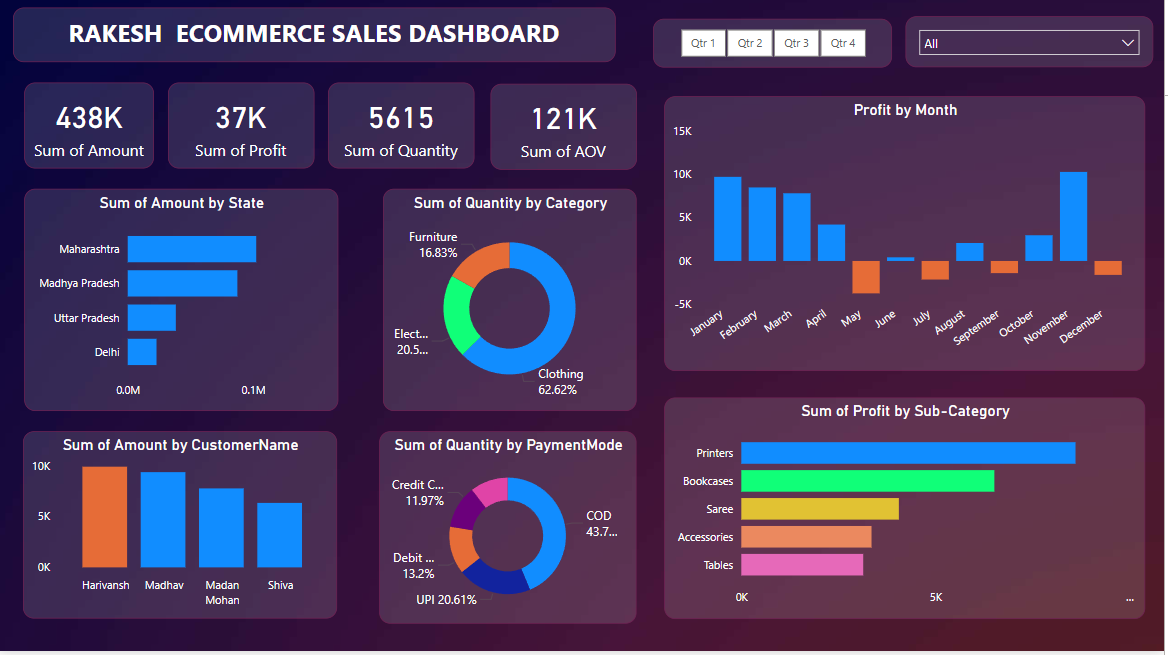

This screenshot's page, from the dashboard's own definition file:
{"tool":"powerbi","page":{"name":"Page 1","canvas":[1280,720],"ordinal":0},"visuals":[{"type":"textbox","box":[16.5,13.7,661.4,60.4],"z":0},{"type":"columnChart","title":"Profit by Month","fields":{"Category":["Orders.Order Date.Variation.Date Hierarchy.Month"],"Y":["Sum(Details.Profit)"]},"box":[731.4,111.1,528.3,301.9],"z":1000},{"type":"barChart","fields":{"Category":["Details.Sub-Category"],"Y":["Sum(Details.Profit)"]},"box":[731.4,441.9,528.3,242.9],"z":2000},{"type":"donutChart","fields":{"Category":["Details.Category"],"Y":["Sum(Details.Quantity)"]},"box":[422.6,212.7,278.6,244.3],"z":3000},{"type":"donutChart","fields":{"Category":["Details.PaymentMode"],"Y":["Sum(Details.Quantity)"]},"box":[418.5,478.9,282.7,211.3],"z":4000},{"type":"card","fields":{"Values":["Sum(Details.Amount)"]},"box":[28.8,96.1,142.7,94.7],"z":5000},{"type":"card","fields":{"Values":["Sum(Details.Profit)"]},"box":[186.6,96.1,160.5,94.7],"z":6000},{"type":"card","fields":{"Values":["Sum(Details.AOV)"]},"box":[540.7,97.4,160.5,94.7],"z":7000},{"type":"card","fields":{"Values":["Sum(Details.Quantity)"]},"box":[362.3,96.1,160.5,94.7],"z":8000},{"type":"barChart","fields":{"Category":["Orders.State"],"Y":["Sum(Details.Amount)"]},"box":[28.8,212.7,344.4,244.3],"z":9000},{"type":"columnChart","fields":{"Category":["Orders.CustomerName"],"Y":["Sum(Details.Amount)"]},"box":[27.4,478.9,344.4,205.8],"z":10000},{"type":"slicer","fields":{"Values":["Orders.Order Date.Variation.Date Hierarchy.Quarter"]},"box":[719,26.1,262.1,53.5],"z":11000},{"type":"slicer","fields":{"Values":["Orders.State"]},"box":[996.2,23.3,271.7,56.3],"z":12000}]}

Visuals, with their boxes in screenshot pixels (x1, y1, x2, y2), scaled from the page's 1280x720 canvas onto the 1168x655 screenshot:
textbox: detection(15, 12, 619, 67)
"Profit by Month" columnChart: detection(667, 101, 1149, 376)
barChart - Details.Sub-Category x Sum(Details.Profit): detection(667, 402, 1149, 623)
donutChart - Details.Category x Sum(Details.Quantity): detection(386, 193, 640, 416)
donutChart - Details.PaymentMode x Sum(Details.Quantity): detection(382, 436, 640, 628)
card - Sum(Details.Amount): detection(26, 87, 156, 174)
card - Sum(Details.Profit): detection(170, 87, 317, 174)
card - Sum(Details.AOV): detection(493, 89, 640, 175)
card - Sum(Details.Quantity): detection(331, 87, 477, 174)
barChart - Orders.State x Sum(Details.Amount): detection(26, 193, 341, 416)
columnChart - Orders.CustomerName x Sum(Details.Amount): detection(25, 436, 339, 623)
slicer - Orders.Order Date.Variation.Date Hierarchy.Quarter: detection(656, 24, 895, 72)
slicer - Orders.State: detection(909, 21, 1157, 72)
